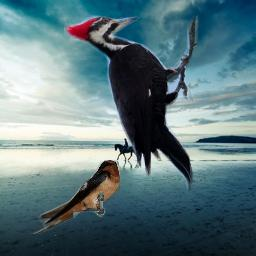Swallow: (30, 160, 120, 234)
Woodpecker: (64, 15, 199, 192)
